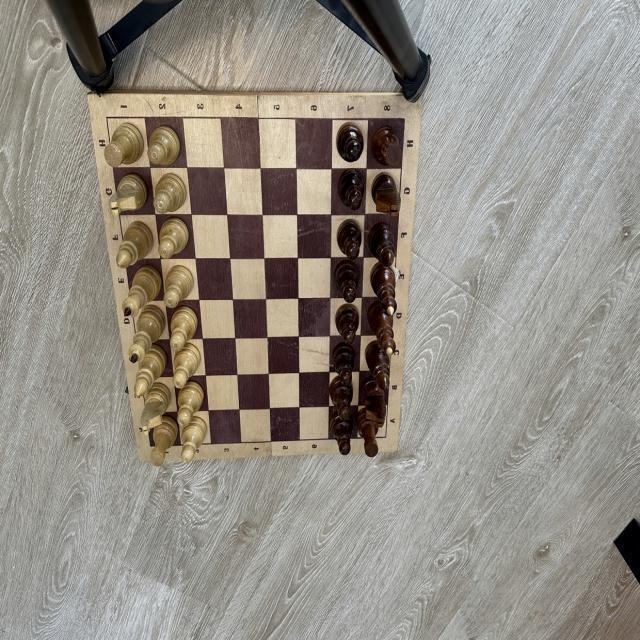chess-table-corners: (382, 432, 390, 443), (104, 112, 110, 122), (402, 114, 407, 123), (148, 443, 152, 450)
